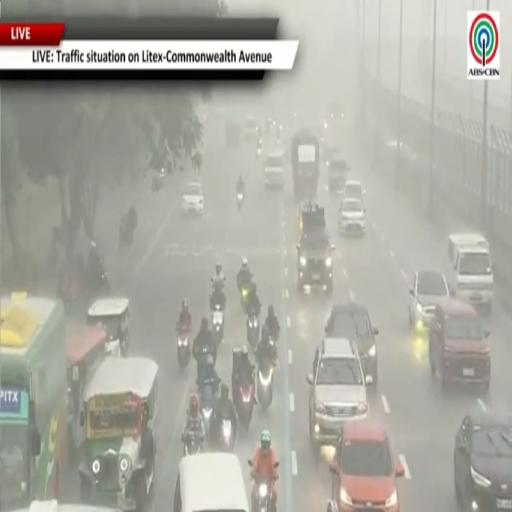bus: (0, 293, 67, 511)
car: (307, 338, 368, 456), (328, 422, 404, 511), (429, 297, 491, 393), (454, 410, 511, 511), (325, 301, 378, 389), (409, 269, 450, 329), (339, 198, 365, 234), (264, 150, 284, 187), (182, 182, 203, 216), (343, 180, 365, 201), (243, 117, 259, 142), (323, 147, 341, 167)
jeepney: (78, 357, 158, 511), (66, 325, 106, 465), (87, 298, 129, 357), (16, 500, 116, 511)
motorcycle: (257, 354, 273, 409), (236, 383, 254, 430), (86, 261, 110, 295), (200, 386, 215, 434), (252, 480, 273, 511), (177, 325, 190, 371), (212, 304, 224, 345), (247, 312, 259, 349), (183, 434, 203, 455), (197, 345, 217, 365), (221, 420, 233, 452), (119, 221, 133, 248), (240, 286, 249, 313), (237, 192, 244, 210)
truck: (448, 233, 493, 313), (297, 202, 335, 293), (291, 128, 320, 200), (328, 156, 350, 193), (225, 120, 242, 148)
